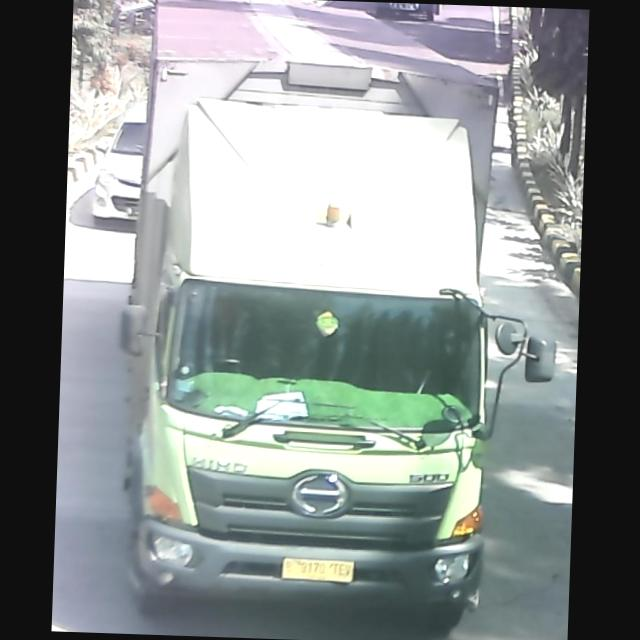plate: (279, 554, 362, 586)
